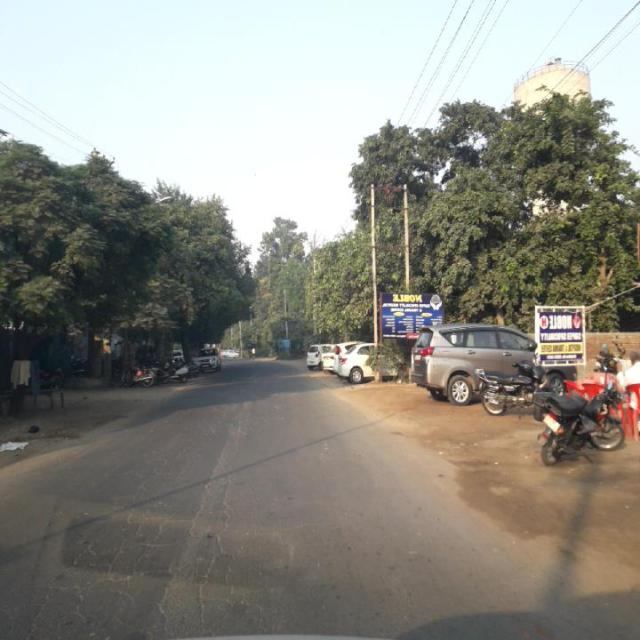crack: (23, 463, 271, 637)
